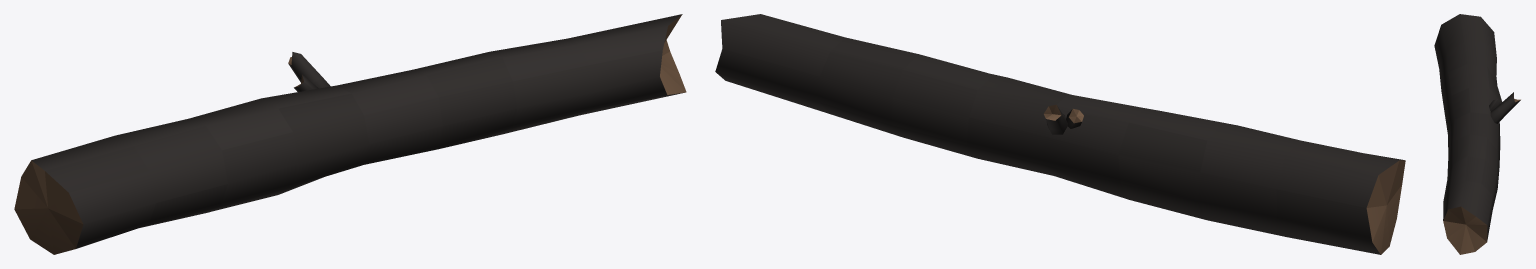
Rendered from obj_tronco_caido_2.glb.
The picture shows the model from 3 angles, left to right: view 1: azimuth 30°, elevation 25°; view 2: azimuth 150°, elevation 25°; view 3: azimuth 270°, elevation 25°; orthographic projection. The views are drawn at different scales.
Parts seen in each view (by area): view 1: propforge-libre-tronco_caido; view 2: propforge-libre-tronco_caido; view 3: propforge-libre-tronco_caido.
Part boxes in pixels (x1,y1,x2,y2): propforge-libre-tronco_caido: [14, 14, 686, 254]; propforge-libre-tronco_caido: [715, 14, 1405, 254]; propforge-libre-tronco_caido: [1434, 14, 1520, 254].
Size of the model in its own units: 2.18 by 0.3318 by 0.4103.
